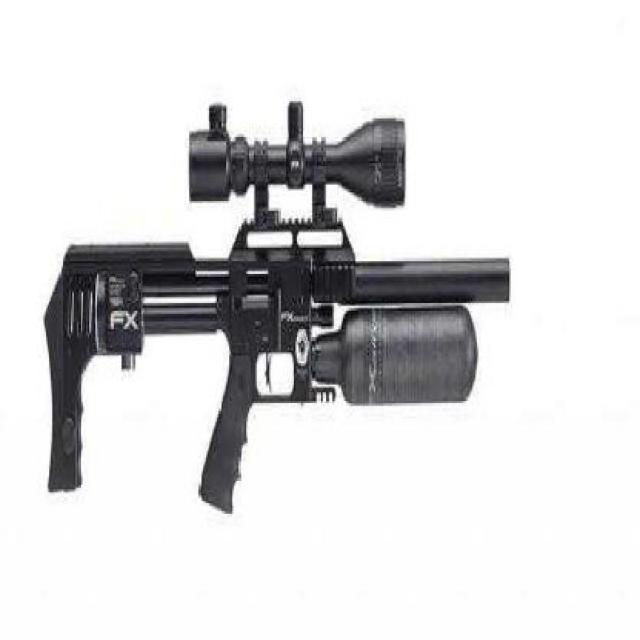weapon: (46, 98, 511, 514)
